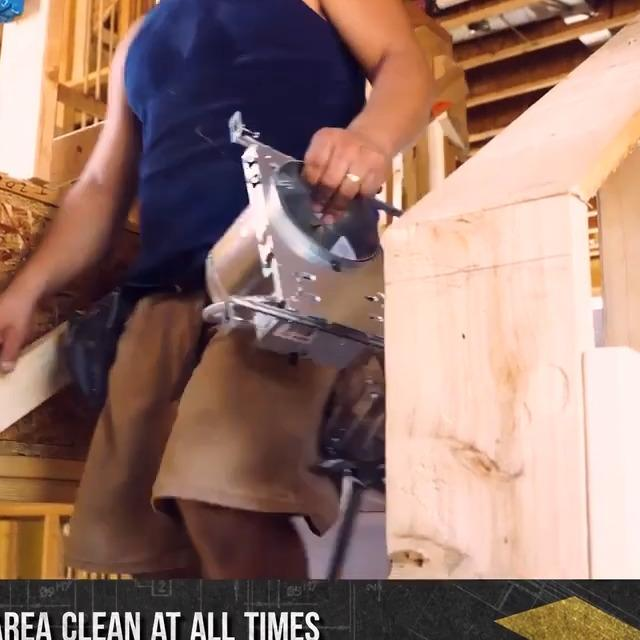NO-Safety Vest: (126, 0, 365, 280)
Person: (0, 0, 434, 572)
